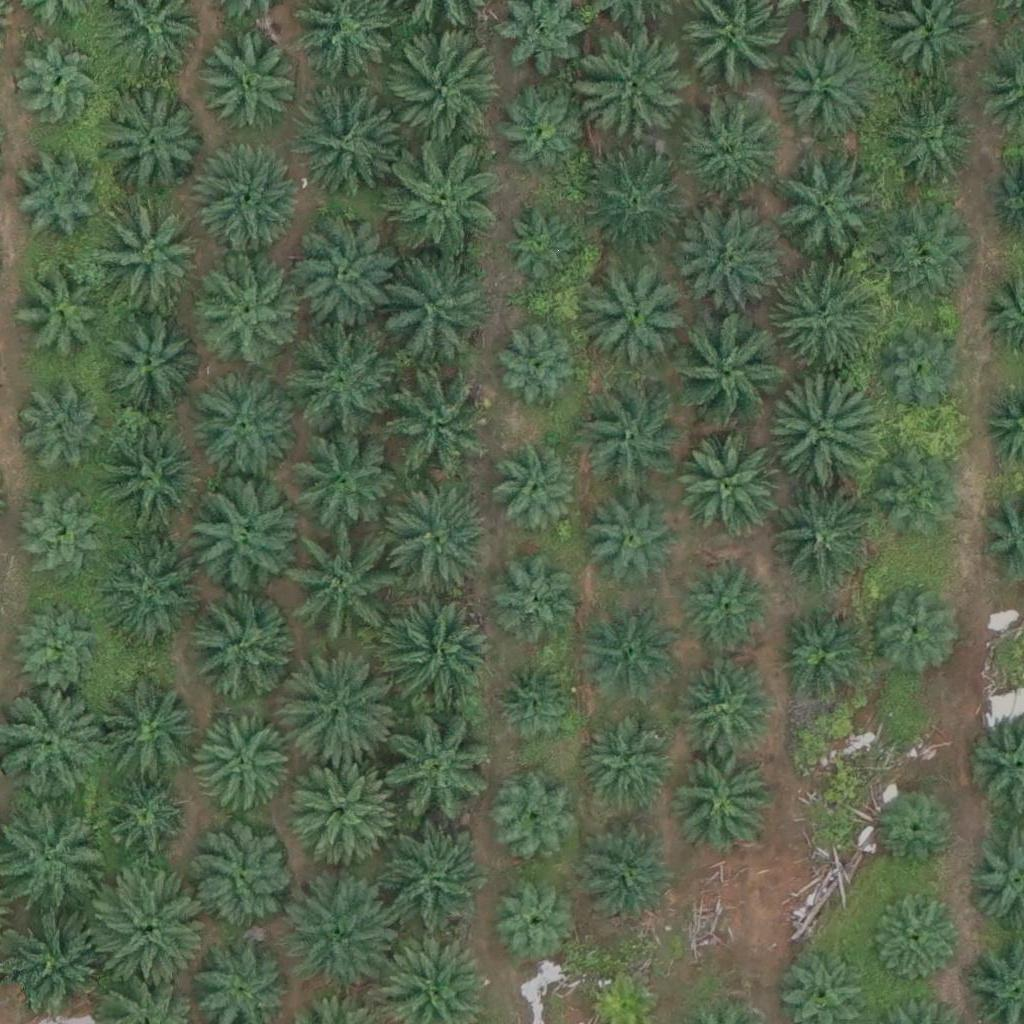Kelapa_Sawit: (286, 659, 399, 773), (292, 82, 405, 196), (384, 481, 497, 594), (380, 600, 493, 713), (373, 716, 486, 829), (180, 485, 293, 598), (1, 907, 114, 1020), (767, 31, 880, 144), (771, 148, 884, 261), (764, 264, 877, 377), (391, 37, 504, 150), (285, 218, 398, 331), (191, 144, 304, 257), (97, 206, 210, 319), (372, 831, 484, 945), (681, 430, 793, 544), (386, 142, 498, 256), (95, 420, 207, 534), (767, 491, 879, 604), (286, 881, 398, 994), (286, 754, 398, 867), (293, 529, 405, 642), (178, 590, 290, 703), (96, 538, 208, 651), (93, 678, 205, 791), (93, 866, 205, 979), (771, 377, 883, 490), (672, 309, 784, 422), (668, 200, 780, 313), (582, 39, 694, 152), (581, 141, 693, 254), (582, 260, 694, 373), (571, 381, 683, 494), (377, 252, 489, 365), (382, 362, 494, 475), (284, 417, 396, 530), (283, 326, 395, 439), (190, 373, 302, 486), (676, 662, 776, 763), (672, 754, 772, 855), (577, 710, 677, 811), (578, 819, 678, 920), (192, 716, 292, 817), (192, 828, 292, 929), (871, 209, 971, 310), (683, 105, 783, 206), (202, 31, 302, 132), (198, 268, 298, 369), (94, 312, 194, 413), (105, 95, 205, 196), (584, 484, 684, 584), (579, 613, 679, 713), (881, 95, 981, 195), (871, 888, 959, 977), (870, 591, 958, 679), (682, 558, 770, 646), (490, 876, 578, 964), (494, 768, 582, 856), (97, 774, 185, 862), (14, 604, 102, 692), (17, 269, 105, 357), (22, 389, 110, 477), (873, 786, 960, 874), (778, 614, 865, 702), (492, 660, 579, 748), (492, 555, 579, 643), (879, 325, 966, 413), (875, 441, 962, 529), (495, 443, 582, 531), (495, 319, 582, 407), (506, 86, 593, 174), (14, 40, 101, 128), (15, 159, 102, 247), (17, 494, 104, 582), (504, 209, 579, 285)
